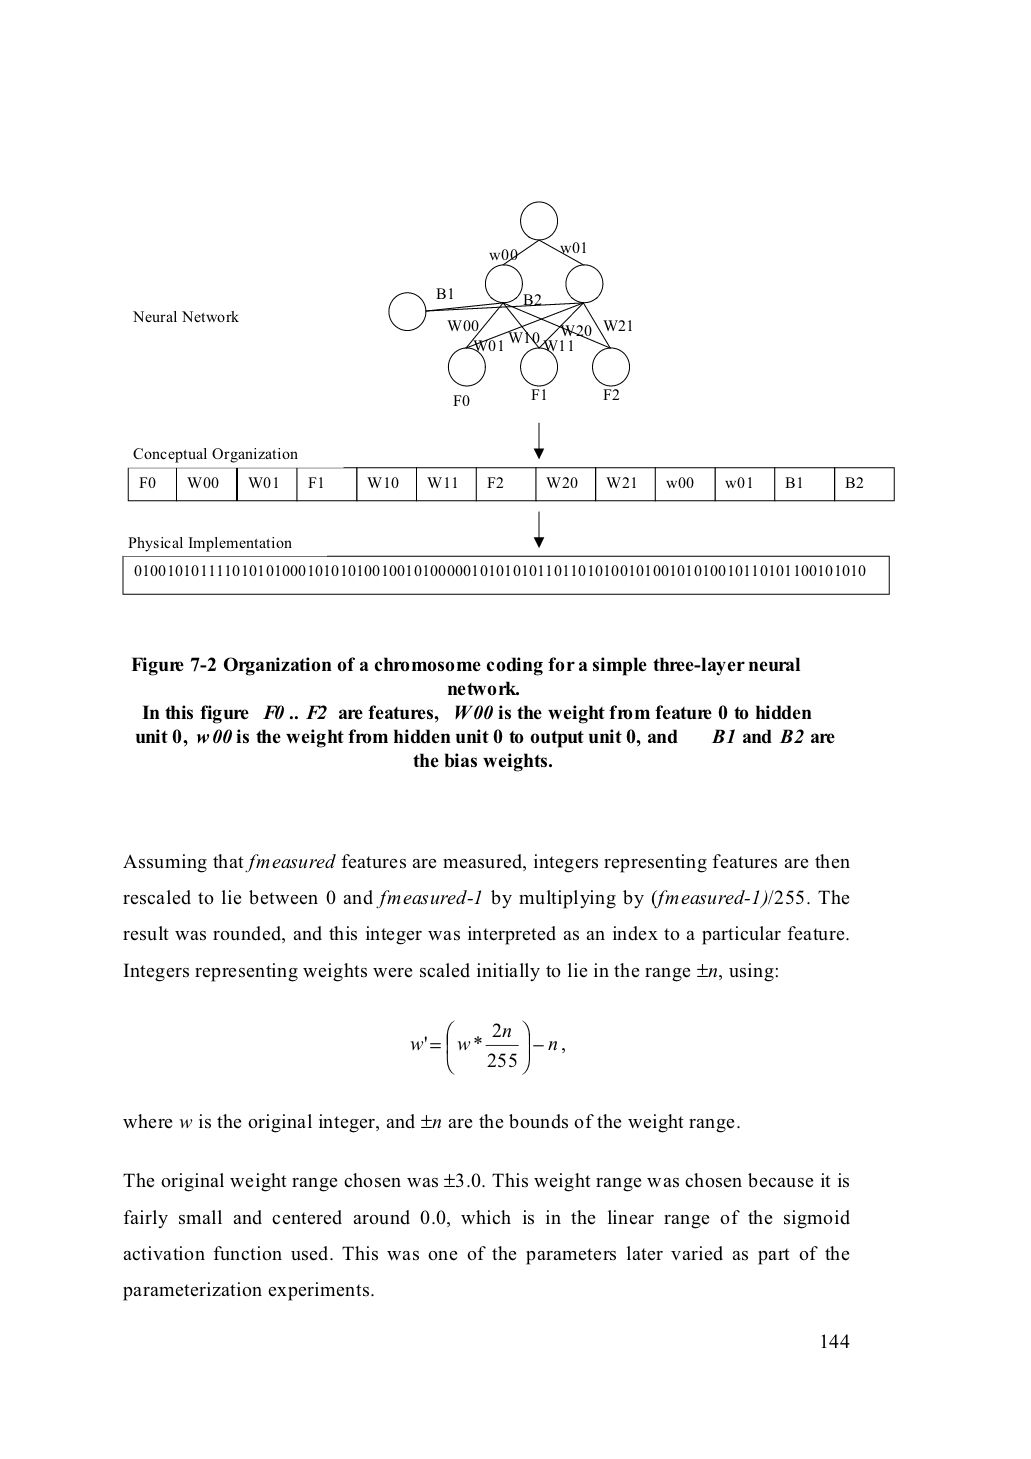figure: (122, 201, 894, 595)
formula: (409, 1020, 563, 1075)
